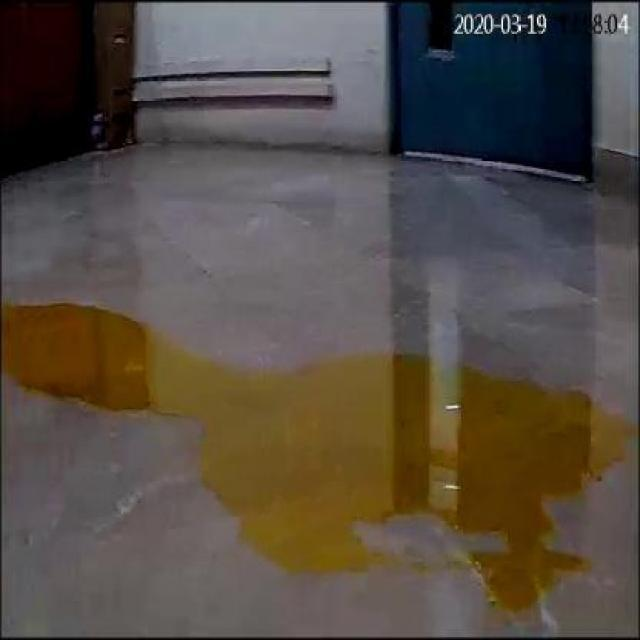spill: (6, 300, 619, 612)
